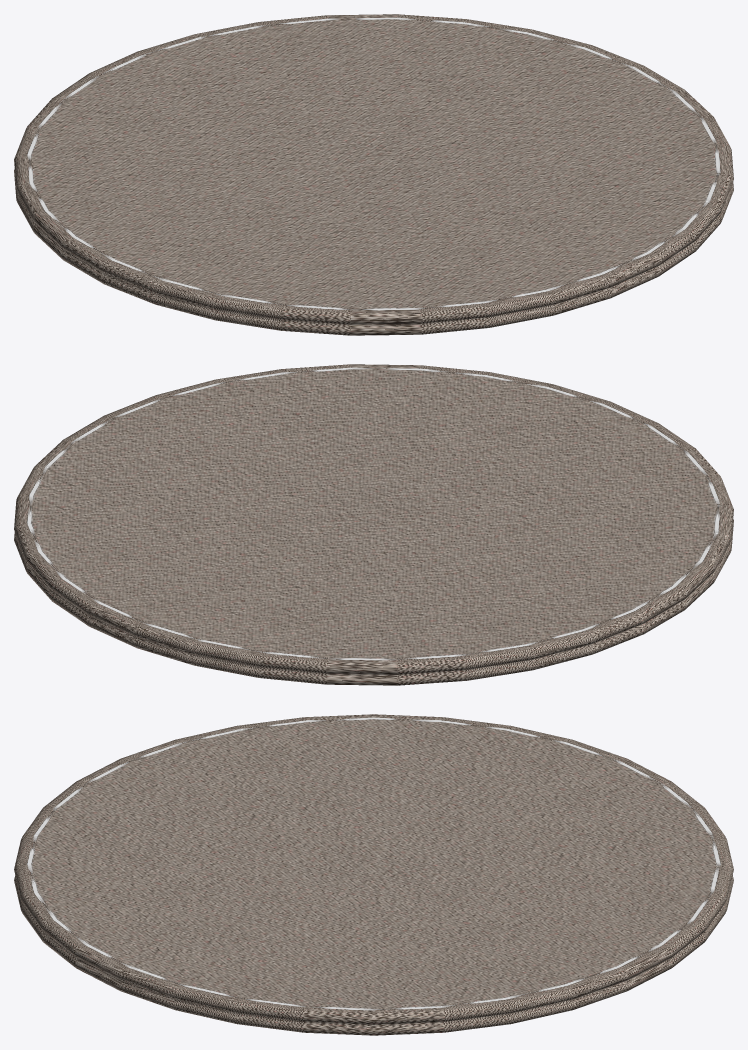
The model's file is PlaceMat.fbx.
3 renders of one model, top to bottom at view 1: azimuth 30°, elevation 25°; view 2: azimuth 150°, elevation 25°; view 3: azimuth 270°, elevation 25°, orthographic.
Visible parts, largest first — view 1: PlaceMat; view 2: PlaceMat; view 3: PlaceMat.
Boxes of the visible parts, x1=… form: PlaceMat: x1=14, y1=14, x2=733, y2=335; PlaceMat: x1=14, y1=364, x2=733, y2=685; PlaceMat: x1=14, y1=714, x2=733, y2=1035.
Size of the model in its own units: 29.99 by 1 by 29.99.
